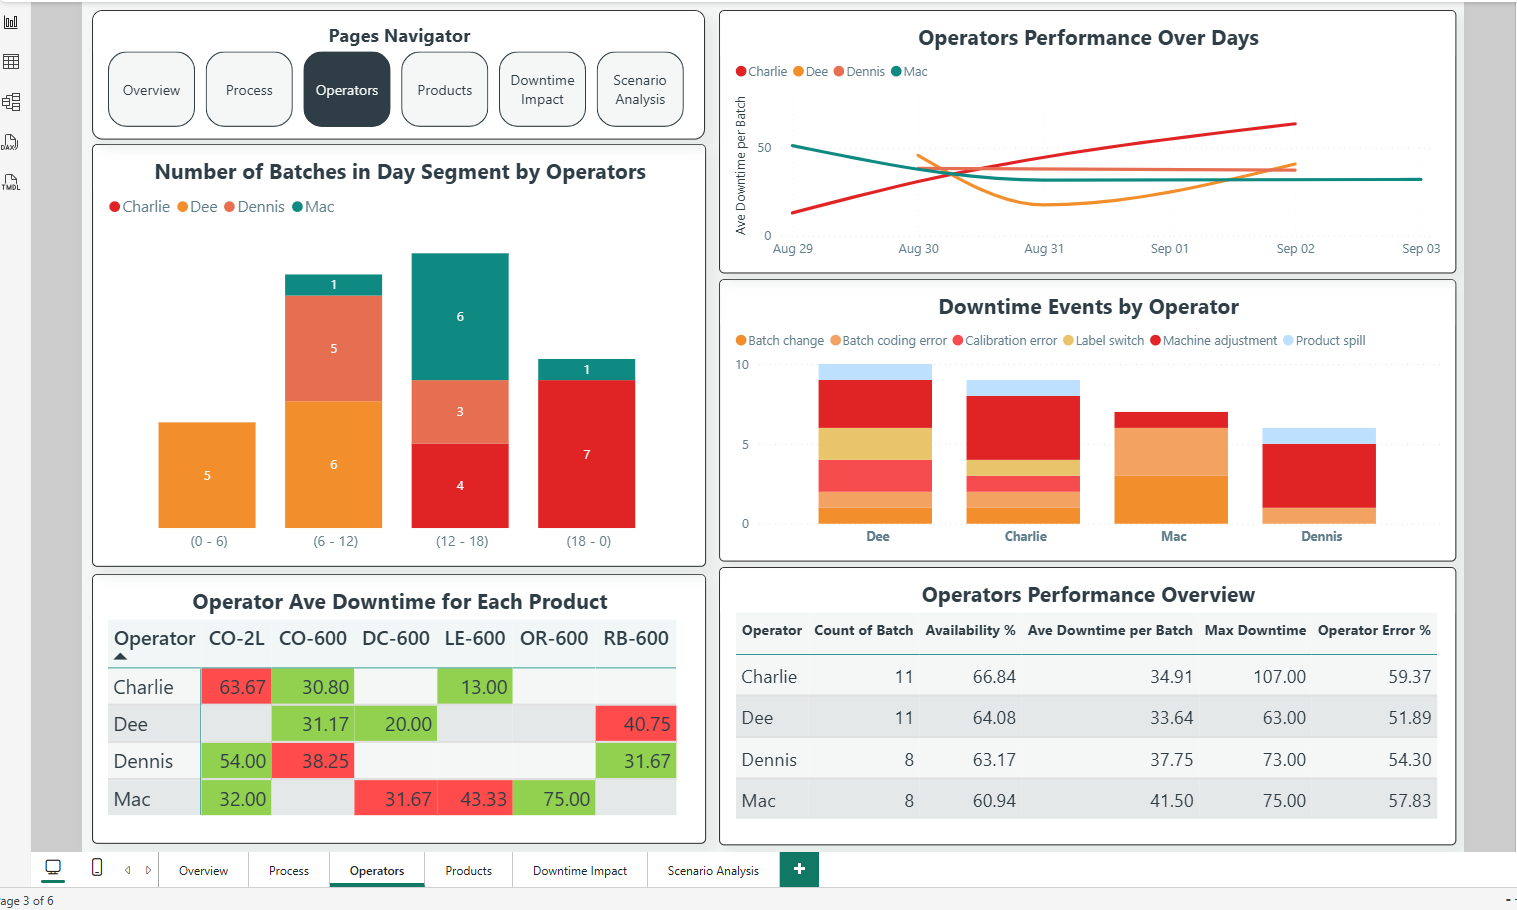

This screenshot's page, from the dashboard's own definition file:
{"tool":"powerbi","page":{"name":"Operators","canvas":[1300,800],"ordinal":2},"visuals":[{"type":"columnChart","title":"Downtime Events by Operator","fields":{"Category":["Line productivity.Operator"],"Series":["Downtime factors.Description"],"Y":["#Measures.Downtime Events"]},"box":[597.6,260.7,693.6,266.4],"z":0},{"type":"pivotTable","title":"Operator Ave Downtime for Each Product","fields":{"Rows":["Line productivity.Operator"],"Columns":["Products.Product"],"Values":["#Measures.Ave Downtime per Batch"]},"box":[9.5,538.4,577.9,254.1],"z":1000},{"type":"tableEx","title":"Operators Performance Overview","fields":{"Values":["Line productivity.Operator","Line productivity.Batch","#Measures.Availability","#Measures.Ave Downtime per Batch","#Measures.Max Downtime","#Measures.Operator Error %"]},"box":[597.6,531.8,693.6,261.6],"z":2000},{"type":"columnChart","title":"Number of Batches in Day Segment by Operators","fields":{"Series":["Line productivity.Operator"],"Category":["Line productivity.Day segmentation"],"Y":["#Measures.Number of Batches"]},"box":[9.5,133.6,577.9,398.1],"z":3000},{"type":"lineChart","title":"Operators Performance Over Days","fields":{"Category":["Line productivity.Date.Variation.Date Hierarchy.Month"],"Y":["#Measures.Ave Downtime per Batch"],"Series":["Line productivity.Operator"]},"box":[597.6,7.5,693.6,248.5],"z":4000},{"type":"pageNavigator","title":"Pages Navigator","box":[9.8,7.8,576.9,121.6],"z":7000}]}

Visuals, with their boxes on the page's 1300x800 design canvas (x1, y1, x2, y2). These are canvas units, not pixel positions in the 1517x910 screenshot, which may show the page scaled, cropped or inside an application window:
"Downtime Events by Operator" columnChart: bbox=[598, 261, 1291, 527]
"Operator Ave Downtime for Each Product" pivotTable: bbox=[10, 538, 587, 792]
"Operators Performance Overview" tableEx: bbox=[598, 532, 1291, 793]
"Number of Batches in Day Segment by Operators" columnChart: bbox=[10, 134, 587, 532]
"Operators Performance Over Days" lineChart: bbox=[598, 8, 1291, 256]
"Pages Navigator" pageNavigator: bbox=[10, 8, 587, 129]
